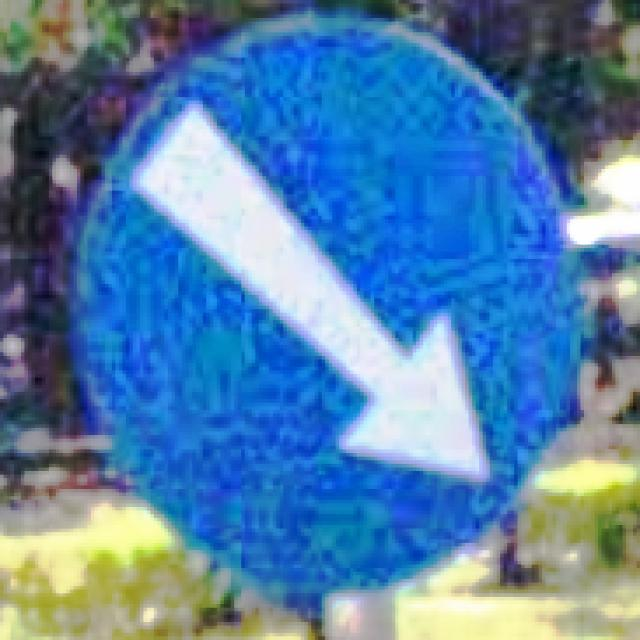thisway: (63, 10, 587, 608)
